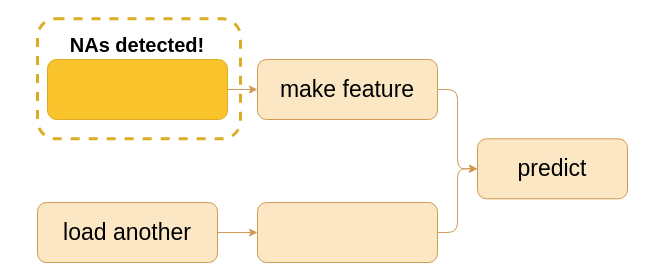
The diagram is 645 pixels wide and 280 high, and some of its shapes have lost their labels. Each missing label, with the box of its shape:
load data: (46, 58, 228, 120)
more features: (256, 202, 438, 262)
